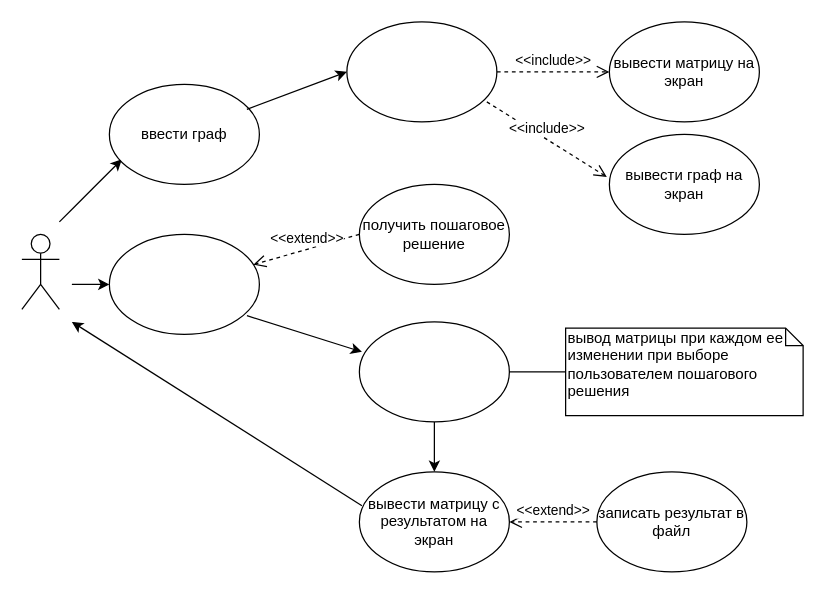
Image size: 825x594. Some labels were removed from this diagram. The centre of each missing label's shape, as x and y in pixels:
Actor: the point at 40,271
получить решение: the point at 183,283
Произвести вычисления: the point at 433,371
создать матрицу смежности: the point at 421,71
